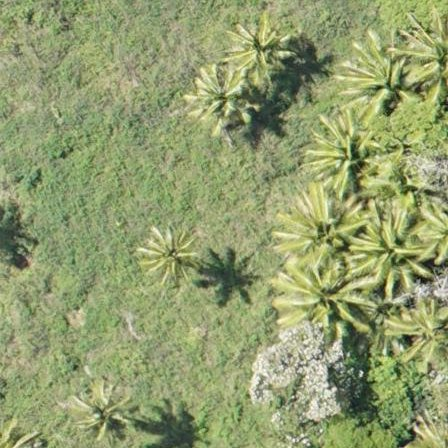palm_tree: (274, 187, 359, 267), (279, 260, 365, 339), (337, 41, 418, 117), (355, 209, 426, 275), (310, 118, 381, 183), (188, 64, 255, 129), (228, 20, 293, 80), (71, 383, 133, 443), (137, 225, 202, 281), (1, 411, 38, 448)
